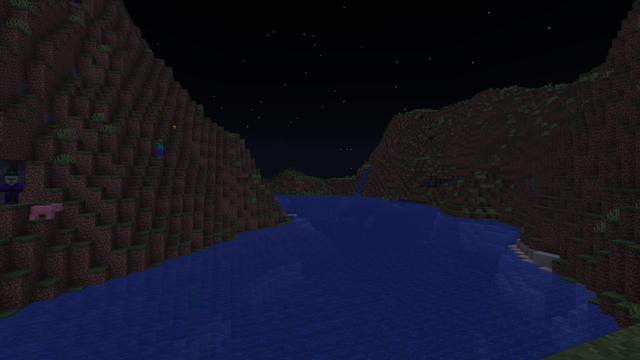cochons: (29, 204, 55, 219)
sorcieres: (1, 174, 21, 206)
zombies: (157, 138, 164, 157)
